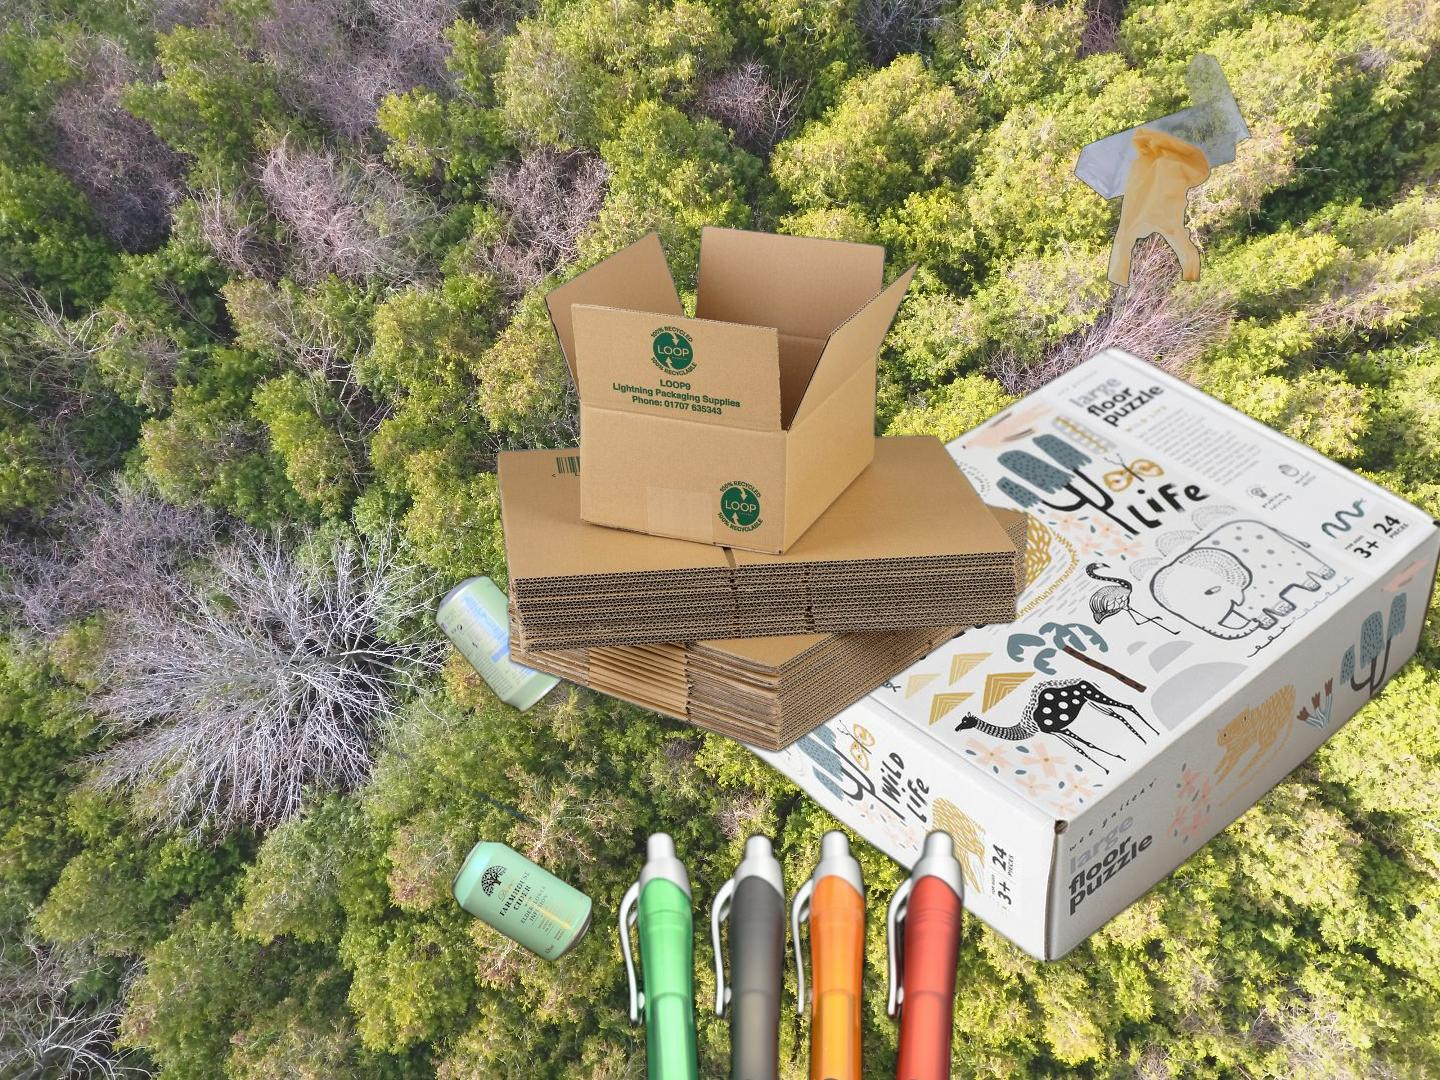metal-cans: (306, 569, 649, 871), (447, 833, 598, 968)
paper-bag: (1019, 503, 1319, 784)
penholder: (610, 822, 971, 1080)
plastic-bag: (1073, 47, 1254, 292)
trashbox-cardboard: (693, 340, 1440, 970), (491, 220, 1034, 757)
